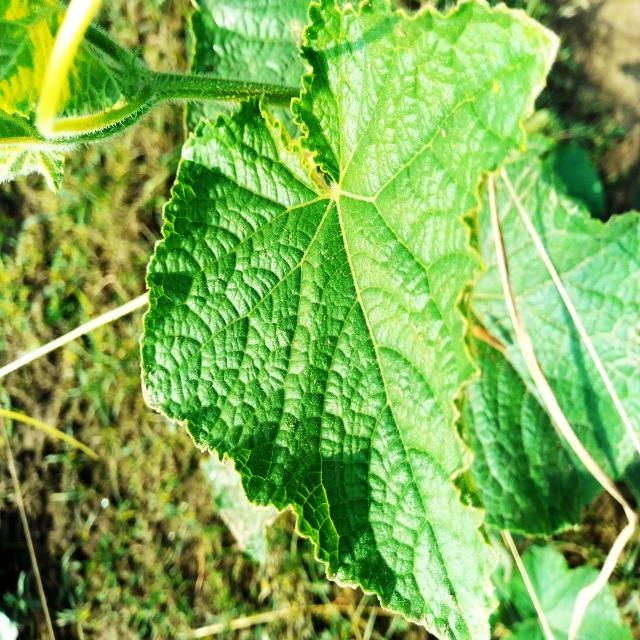Fresh-Leaf: (139, 0, 562, 640)
